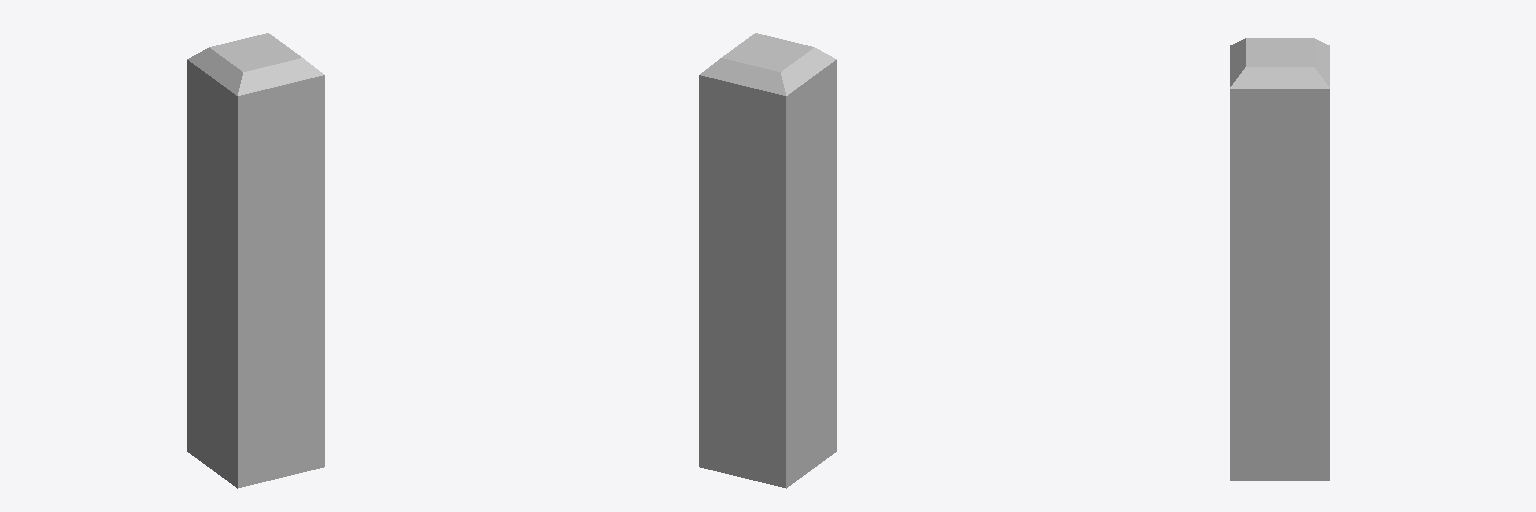
Rendered from testtower.obj.
The picture shows the model from 3 angles: view 1: azimuth 30°, elevation 25°; view 2: azimuth 150°, elevation 25°; view 3: azimuth 270°, elevation 25°; orthographic projection.
Parts seen in each view (by area): view 1: Cube; view 2: Cube; view 3: Cube.
Part boxes in pixels (left/top/right/bottom): Cube: left=187, top=33, right=324, bottom=488; Cube: left=699, top=33, right=836, bottom=488; Cube: left=1230, top=38, right=1329, bottom=480.
Size of the model in its own units: 2 by 8.91 by 2.